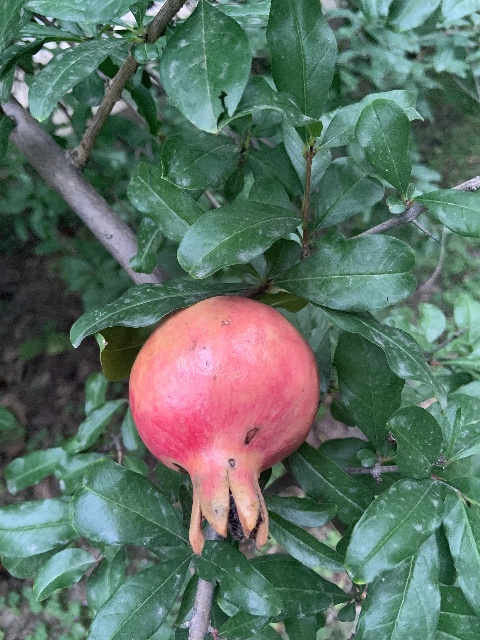ripe: (127, 295, 319, 556)
